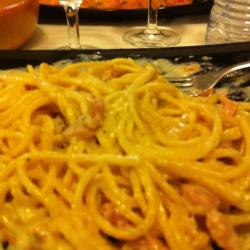bolonese_pasta: (4, 64, 250, 244)
